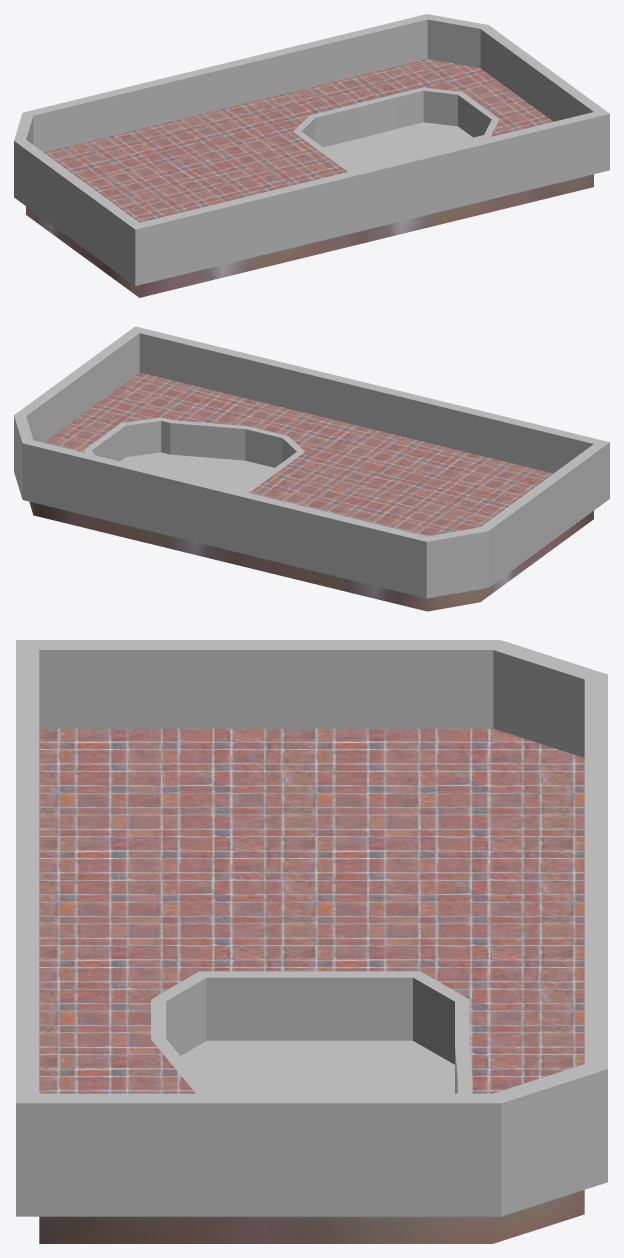
The model's file is hirise_parts02_pool_l.fbx.
3 renders of one model, top to bottom at view 1: azimuth 30°, elevation 25°; view 2: azimuth 150°, elevation 25°; view 3: azimuth 270°, elevation 25°, orthographic. The views are drawn at different scales.
Visible parts, largest first — view 1: hirise_parts02_pool_l; view 2: hirise_parts02_pool_l; view 3: hirise_parts02_pool_l.
Boxes of the visible parts, x1,y1,x2,y2 form: hirise_parts02_pool_l: (14, 14, 609, 297); hirise_parts02_pool_l: (14, 326, 609, 611); hirise_parts02_pool_l: (16, 640, 607, 1243).
Bounding box in the file's own units: 12.59 × 1.9 × 6.8.
